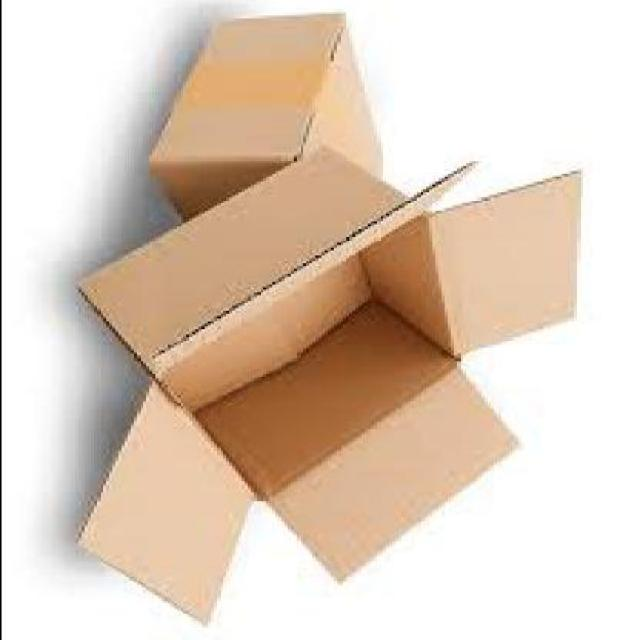cardboard: (80, 152, 582, 630), (150, 18, 382, 234)
